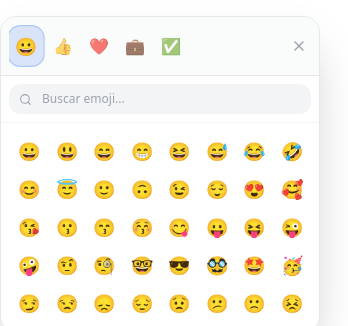
Scenario: EmojiPickerDropdown › filtra emojis ao digitar na busca
(page scrolled)
Type "❤️" into the field with placeholder "Buscar emoji..." at [160, 99], box [9, 84, 311, 114]
(page scrolled)
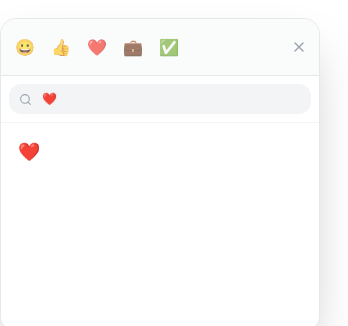
Result: the button with test id "emoji-item" reads "❤️" at [13, 135, 45, 167]
